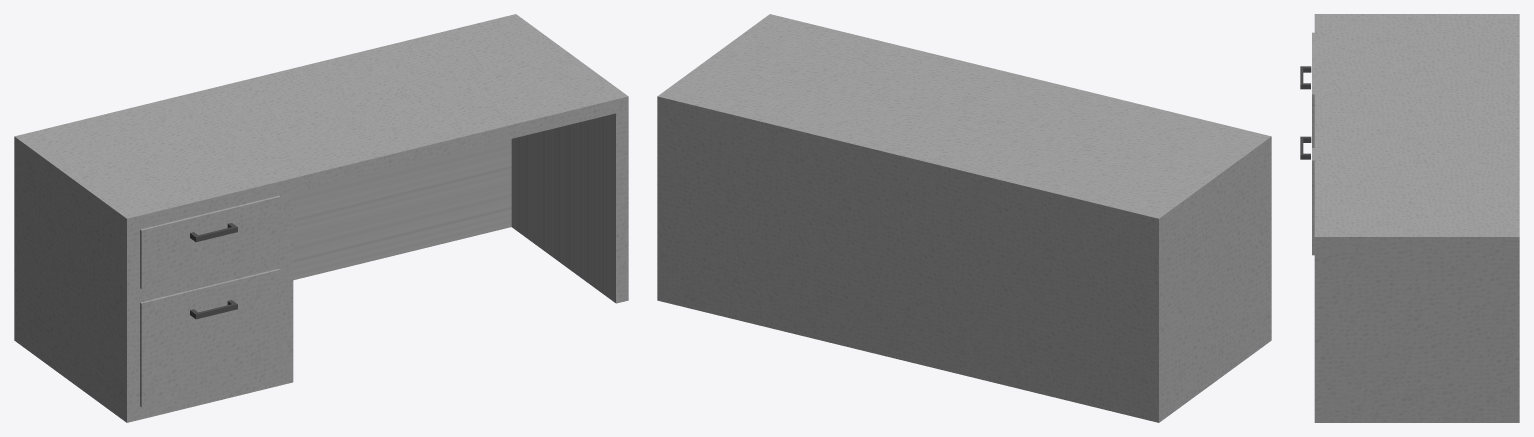
The model's file is Desk_1.fbx.
The picture shows the model from 3 angles, left to right: view 1: azimuth 30°, elevation 25°; view 2: azimuth 150°, elevation 25°; view 3: azimuth 270°, elevation 25°; orthographic projection. The views are drawn at different scales.
Parts seen in each view (by area): view 1: Desk; view 2: Desk; view 3: Desk.
Part boxes in pixels (x1,y1,x2,y2): Desk: (14,14,628,422); Desk: (657,14,1271,422); Desk: (1312,14,1519,422).
Bounding box in the file's own units: 180 × 70 × 74.92.
